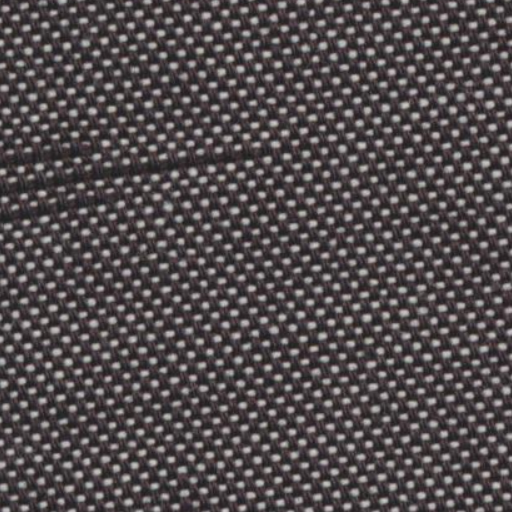DaiSha: (5, 118, 264, 232)
